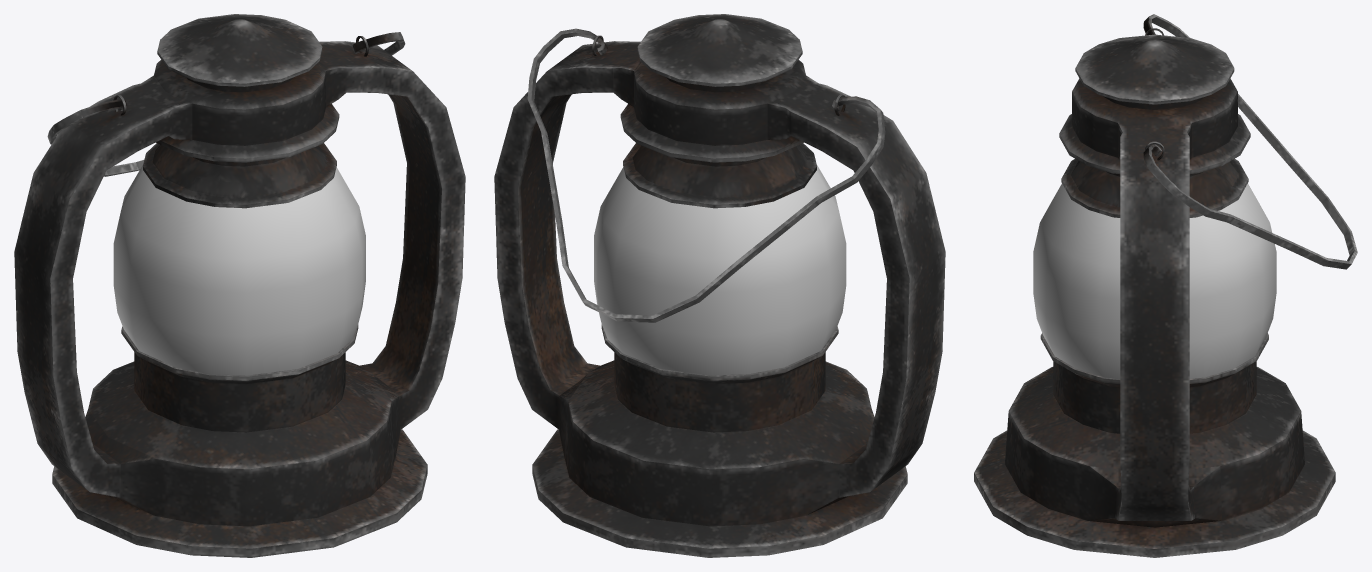
File: Lantern.fbx
3 renders of one model, left to right at view 1: azimuth 30°, elevation 25°; view 2: azimuth 150°, elevation 25°; view 3: azimuth 270°, elevation 25°, orthographic. The views are drawn at different scales.
Visible parts, largest first — view 1: LanternBody, glass_Cube.002, LanternGrip; view 2: LanternBody, glass_Cube.002, LanternGrip; view 3: LanternBody, glass_Cube.002, LanternGrip.
Boxes of the visible parts, left/top/right/bottom form: LanternBody: left=14, top=14, right=465, bottom=557; glass_Cube.002: left=113, top=164, right=365, bottom=375; LanternGrip: left=47, top=32, right=405, bottom=176; LanternBody: left=494, top=14, right=945, bottom=557; glass_Cube.002: left=594, top=164, right=846, bottom=375; LanternGrip: left=527, top=28, right=885, bottom=322; LanternBody: left=974, top=28, right=1335, bottom=557; glass_Cube.002: left=1033, top=183, right=1276, bottom=378; LanternGrip: left=1143, top=14, right=1357, bottom=269.
Bounding box in the file's own units: 297 × 247 × 311.
Materials: 2 (1 with a texture image).
